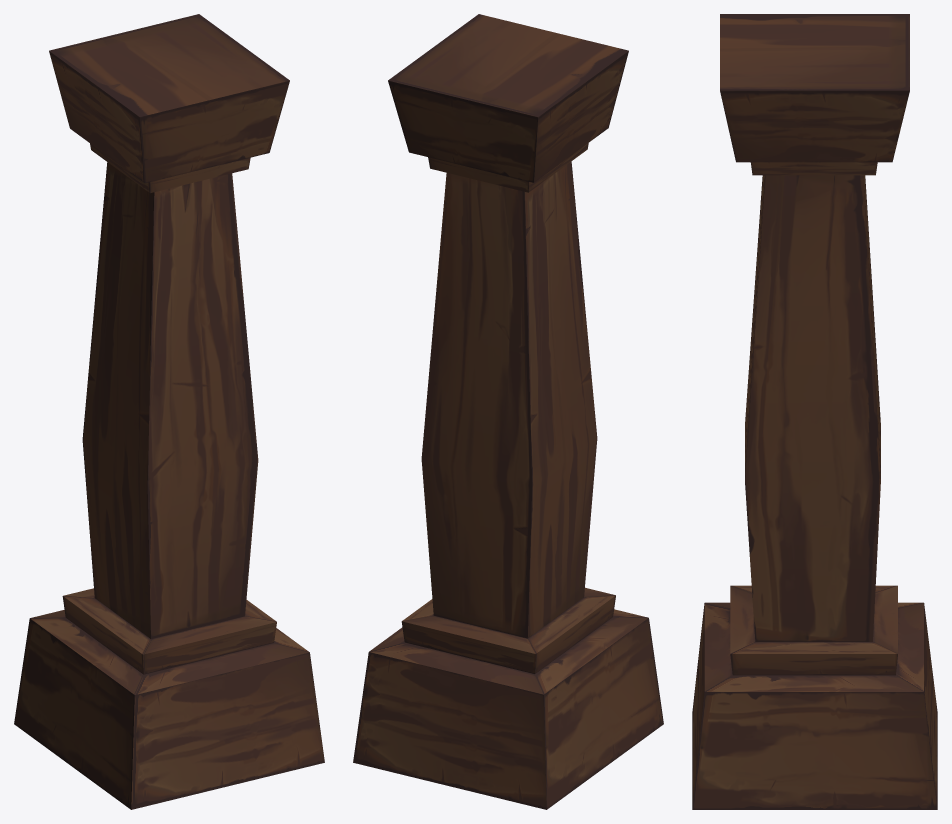
File: MOD_Column_02_med_01.fbx
3 views of the same model, side by side, from view 1: azimuth 30°, elevation 25°; view 2: azimuth 150°, elevation 25°; view 3: azimuth 270°, elevation 25° (orthographic). The views are drawn at different scales.
Parts seen in each view (by area): view 1: MOD_Column_02_med_01; view 2: MOD_Column_02_med_01; view 3: MOD_Column_02_med_01.
Part boxes in pixels (left/top/right/bottom): MOD_Column_02_med_01: left=14, top=14, right=324, bottom=809; MOD_Column_02_med_01: left=353, top=14, right=663, bottom=809; MOD_Column_02_med_01: left=692, top=14, right=937, bottom=809.
Bounding box in the file's own units: 124 × 414 × 130.
